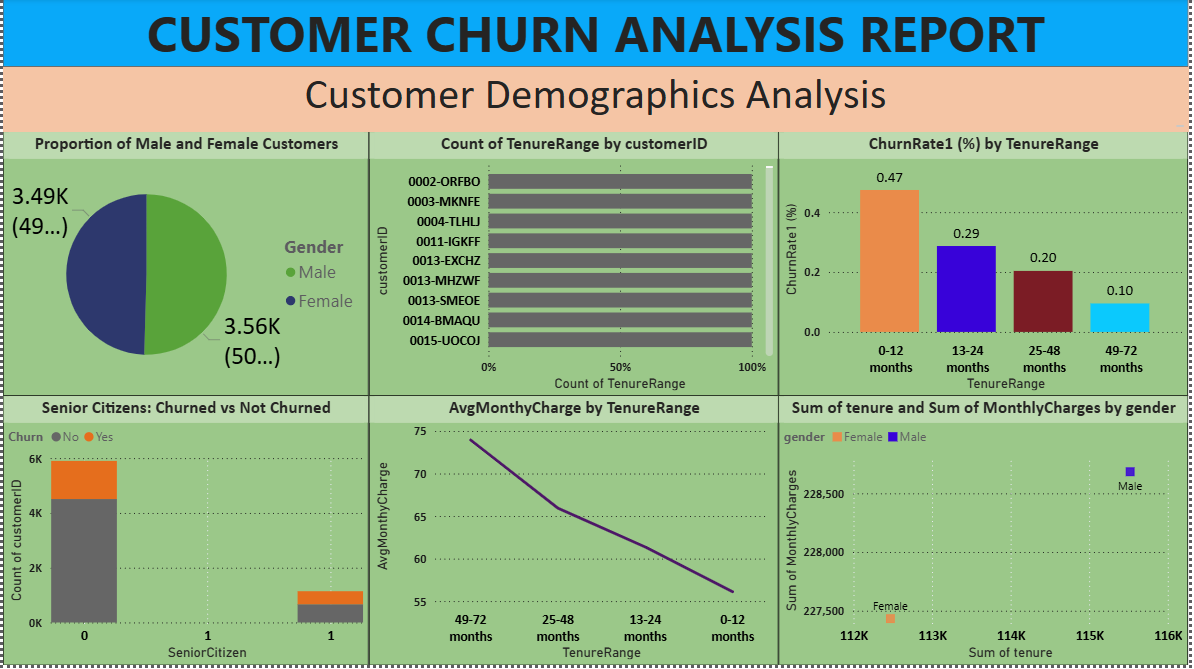

The dashboard page shown, as its layout file describes it:
{"tool":"powerbi","page":{"name":"Page 1","canvas":[1280,720],"ordinal":0},"visuals":[{"type":"textbox","title":"CUSTOMER CHURN ANALYSIS REPORT","box":[0,0,1279.4,73.7],"z":0},{"type":"pieChart","title":" Proportion of Male and Female Customers","fields":{"Y":["CountNonNull(WA_Fn-UseC_-Telco-Customer-Churn.customerID)"],"Category":["WA_Fn-UseC_-Telco-Customer-Churn.gender"]},"box":[0,143.6,395,285.4],"z":1000},{"type":"columnChart","title":"Senior Citizens: Churned vs Not Churned","fields":{"Category":["WA_Fn-UseC_-Telco-Customer-Churn.SeniorCitizen"],"Series":["WA_Fn-UseC_-Telco-Customer-Churn.Churn"],"Y":["CountNonNull(WA_Fn-UseC_-Telco-Customer-Churn.customerID)"]},"box":[0,429,395,291],"z":2000},{"type":"hundredPercentStackedBarChart","fields":{"Category":["Customer Churn Data.customerID"],"Y":["CountNonNull(Customer Churn Data.TenureRange)"]},"box":[395,143.6,442.2,285.4],"z":3000},{"type":"clusteredColumnChart","fields":{"Category":["Customer Churn Data.TenureRange"],"Y":["Customer Churn Data.ChurnRate (%)"]},"box":[837.2,143.6,442.2,285.4],"z":4000},{"type":"lineChart","fields":{"Y":["Customer Churn Data.AvgMonthyCharge"],"Category":["Customer Churn Data.TenureRange"]},"box":[395,429,442.2,291],"z":5000},{"type":"scatterChart","fields":{"X":["Sum(Customer Churn Data.tenure)"],"Y":["Sum(Customer Churn Data.MonthlyCharges)"],"Series":["Customer Churn Data.gender"]},"box":[837.2,429,442.2,291],"z":6000},{"type":"textbox","title":"Customer Demographics Analysis","box":[0,73.7,1279.4,69.9],"z":7000}]}

Visuals, with their boxes in screenshot pixels (x1, y1, x2, y2), scaled from the page's 1280x720 canvas onto the 1194x669 screenshot:
"CUSTOMER CHURN ANALYSIS REPORT" textbox: (0,0,1193,68)
" Proportion of Male and Female Customers" pieChart: (0,133,368,399)
"Senior Citizens: Churned vs Not Churned" columnChart: (0,399,368,668)
hundredPercentStackedBarChart - Customer Churn Data.customerID x CountNonNull(Customer Churn Data.TenureRange): (368,133,781,399)
clusteredColumnChart - Customer Churn Data.TenureRange x Customer Churn Data.ChurnRate (%): (781,133,1193,399)
lineChart - Customer Churn Data.AvgMonthyCharge x Customer Churn Data.TenureRange: (368,399,781,668)
scatterChart - Sum(Customer Churn Data.tenure) x Sum(Customer Churn Data.MonthlyCharges): (781,399,1193,668)
"Customer Demographics Analysis" textbox: (0,68,1193,133)
